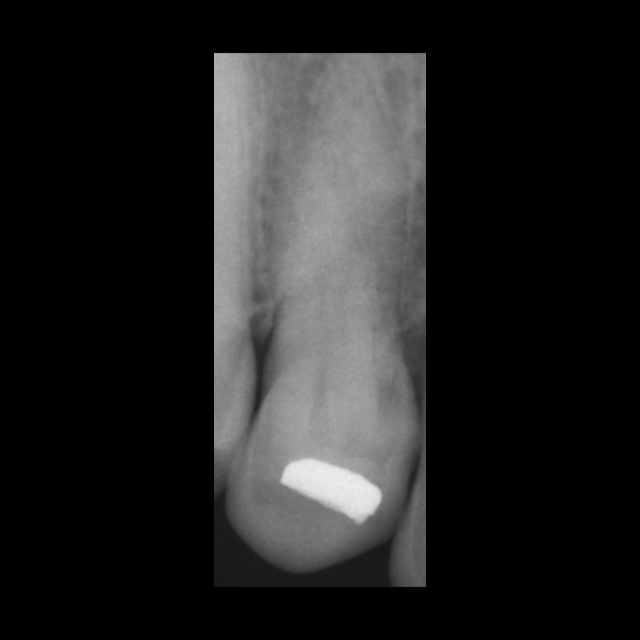tooth: (223, 59, 422, 574)
